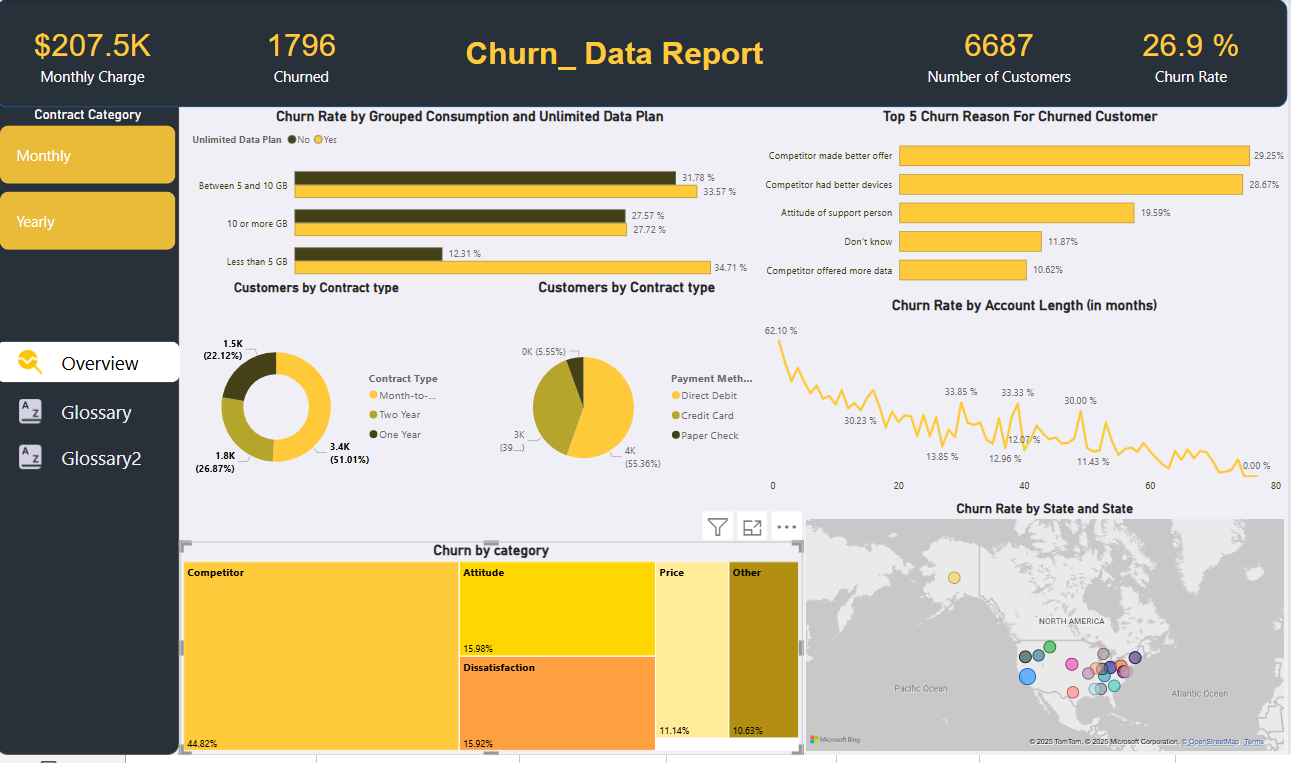

This screenshot's page, from the dashboard's own definition file:
{"tool":"powerbi","page":{"name":"overview","canvas":[1640,960],"ordinal":0},"visuals":[{"type":"shape","box":[0,110.6,233.1,849.1],"z":0},{"type":"actionButton","title":"Glossary","box":[0,545.3,232.7,51.7],"z":0,"group":"g2"},{"type":"lineChart","fields":{"Y":["Databel - Data.Churn Rate"],"Category":["Databel - Data.Account Length (in months)"]},"box":[971.6,377.8,668.7,258.6],"z":1000},{"type":"actionButton","title":"Glossary","box":[0,609.9,232.7,51.7],"z":1000,"group":"g2"},{"type":"shape","box":[0,0,1640.3,137.8],"z":2000},{"type":"actionButton","title":"Overview_active","box":[0,427.3,232.7,51.7],"z":2000,"group":"g2"},{"type":"card","title":"Revenue","fields":{"Values":["Sum(Databel - Data.Monthly Charge)"]},"box":[0,0,245,137.8],"z":3000,"group":"g1"},{"type":"actionButton","title":"Ratios","box":[0,484.8,232.7,45.3],"z":3000,"group":"g2"},{"type":"map","fields":{"Category":["Databel - Data.State"],"Size":["Databel - Data.Churn Rate"]},"box":[0,1014,959.1,626.5],"z":3000},{"type":"card","title":"Revenue","fields":{"Values":["Sum(Databel - Data.Churned)"]},"box":[260.3,0,255.2,137.8],"z":6000,"group":"g1"},{"type":"card","title":"Revenue","fields":{"Values":["Databel - Data.Churn Rate"]},"box":[1395.3,0,245,137.8],"z":7000,"group":"g1"},{"type":"advancedSlicerVisual","fields":{"Values":["Databel - Data.Contract Category"]},"box":[0,136.1,233.1,188.9],"z":7000},{"type":"card","title":"Revenue","fields":{"Values":["Databel - Data.Number of Customers"]},"box":[1152,0,243.3,137.8],"z":8000,"group":"g1"},{"type":"clusteredBarChart","title":"Top 5 Churn Reason For Churned Customer","fields":{"Category":["Databel - Data.Churn Reason"],"Y":["Databel - Data.Number of Churned Customers"]},"box":[959.7,137.8,680.6,239.9],"z":11000},{"type":"donutChart","title":"Customers by Contract type","fields":{"Y":["Count(Databel - Data.Customer ID)"],"Category":["Databel - Data.Contract Type"]},"box":[232.7,355.5,370.1,307.1],"z":12000},{"type":"map","fields":{"Category":["Databel - Data.State"],"Size":["Databel - Data.Churn Rate"],"Series":["Databel - Data.State"]},"box":[1024.2,636.8,616.2,323.5],"z":13000},{"type":"pieChart","title":"Customers by Contract type","fields":{"Category":["Databel - Data.Payment Method"],"Y":["Databel - Data.Number of Customers"]},"box":[602.8,355.5,368.5,307.1],"z":14000},{"type":"clusteredBarChart","fields":{"Category":["Databel - Data.Grouped Consumption"],"Y":["Databel - Data.Churn Rate"],"Series":["Databel - Data.Unlimited Data Plan"]},"box":[245.6,137.4,714.3,218.2],"z":15000},{"type":"group","id":"g1","title":"Group 1","box":[0,0,1640.3,137.8],"z":16000},{"type":"treemap","title":"Churn by category","fields":{"Group":["Databel - Data.Churn Category"],"Values":["Divide(CountNonNull(Databel - Data.Churn Label), ScopedEval(CountNonNull(Databel - Data.Churn Label), []))"]},"box":[233.1,689.1,791.2,270.6],"z":17000},{"type":"group","id":"g2","title":"Group 2","box":[0,427.3,232.7,234.3],"z":18000}]}

Visuals, with their boxes on the page's 1640x960 design canvas (x1, y1, x2, y2). These are canvas units, not pixel positions in the 1291x763 screenshot, which may show the page scaled, cropped or inside an application window:
shape: (x1=0, y1=111, x2=233, y2=960)
"Glossary" actionButton: (x1=0, y1=545, x2=233, y2=597)
lineChart - Databel - Data.Churn Rate x Databel - Data.Account Length (in months): (x1=972, y1=378, x2=1640, y2=636)
"Glossary" actionButton: (x1=0, y1=610, x2=233, y2=662)
shape: (x1=0, y1=0, x2=1640, y2=138)
"Overview_active" actionButton: (x1=0, y1=427, x2=233, y2=479)
"Revenue" card: (x1=0, y1=0, x2=245, y2=138)
"Ratios" actionButton: (x1=0, y1=485, x2=233, y2=530)
map - Databel - Data.State x Databel - Data.Churn Rate: (x1=0, y1=1014, x2=959, y2=1640)
"Revenue" card: (x1=260, y1=0, x2=516, y2=138)
"Revenue" card: (x1=1395, y1=0, x2=1640, y2=138)
advancedSlicerVisual - Databel - Data.Contract Category: (x1=0, y1=136, x2=233, y2=325)
"Revenue" card: (x1=1152, y1=0, x2=1395, y2=138)
"Top 5 Churn Reason For Churned Customer" clusteredBarChart: (x1=960, y1=138, x2=1640, y2=378)
"Customers by Contract type" donutChart: (x1=233, y1=356, x2=603, y2=663)
map - Databel - Data.State x Databel - Data.Churn Rate: (x1=1024, y1=637, x2=1640, y2=960)
"Customers by Contract type" pieChart: (x1=603, y1=356, x2=971, y2=663)
clusteredBarChart - Databel - Data.Grouped Consumption x Databel - Data.Churn Rate: (x1=246, y1=137, x2=960, y2=356)
"Group 1" group: (x1=0, y1=0, x2=1640, y2=138)
"Churn by category" treemap: (x1=233, y1=689, x2=1024, y2=960)
"Group 2" group: (x1=0, y1=427, x2=233, y2=662)
